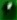black: (0, 0, 17, 20)
